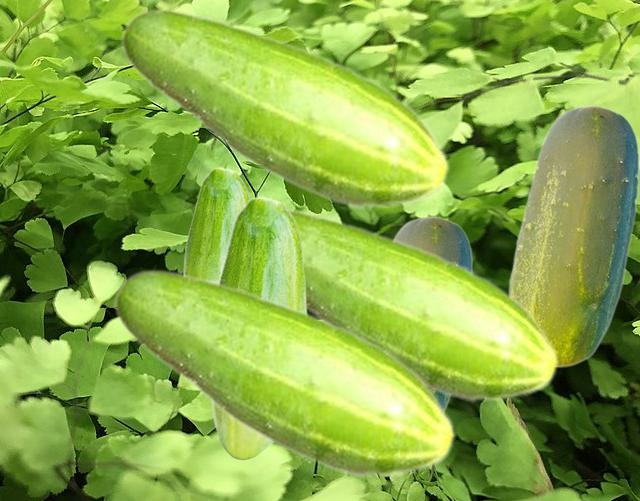cucumber: (113, 268, 456, 479), (120, 7, 450, 210), (287, 207, 559, 403), (507, 104, 638, 367), (209, 196, 306, 459), (393, 215, 471, 408), (183, 167, 250, 280)
